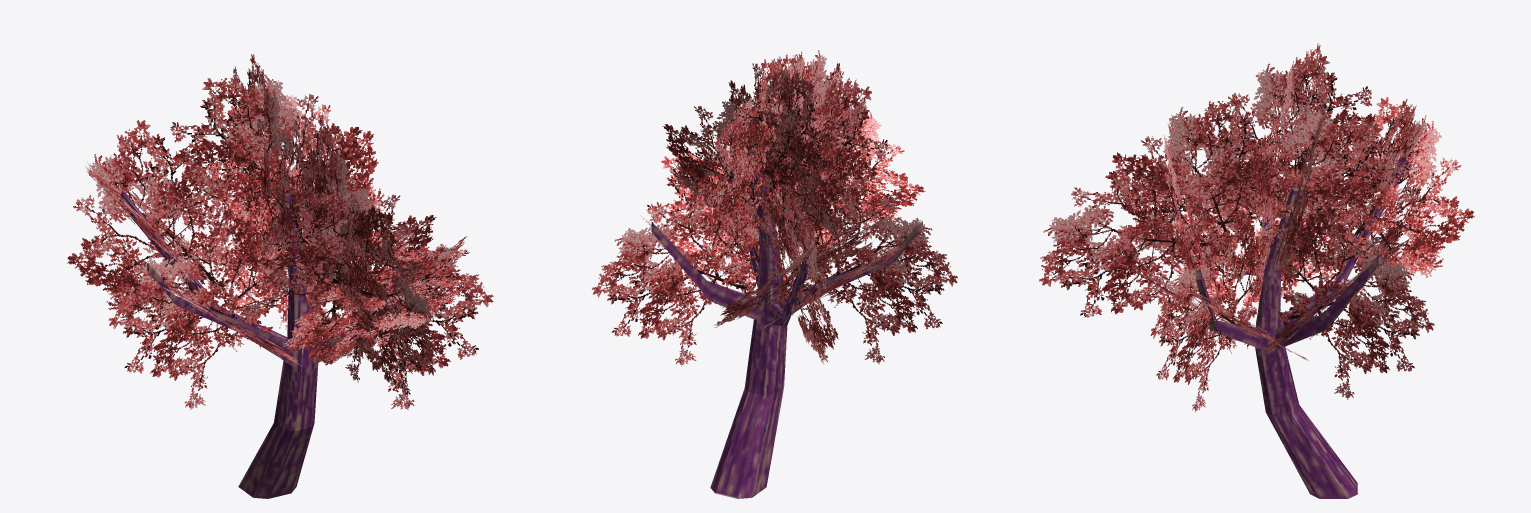
Rendered from pixel_tree2_pink_lowpoly.fbx.
The picture shows the model from 3 angles, left to right: view 1: azimuth 30°, elevation 25°; view 2: azimuth 150°, elevation 25°; view 3: azimuth 270°, elevation 25°; orthographic projection. The views are drawn at different scales.
Visible parts, largest first — view 1: pixel_tree2_pink_foliage, pixel_tree2_pink_foliage2, pixel_tree2_pink_oak; view 2: pixel_tree2_pink_foliage, pixel_tree2_pink_foliage2, pixel_tree2_pink_oak; view 3: pixel_tree2_pink_foliage, pixel_tree2_pink_foliage2, pixel_tree2_pink_oak.
Boxes of the visible parts, x1,y1,x2,y2 form: pixel_tree2_pink_foliage: [67, 54, 493, 409]; pixel_tree2_pink_foliage2: [68, 67, 484, 408]; pixel_tree2_pink_oak: [119, 181, 422, 498]; pixel_tree2_pink_foliage: [592, 50, 957, 366]; pixel_tree2_pink_foliage2: [592, 52, 955, 365]; pixel_tree2_pink_oak: [651, 159, 922, 498]; pixel_tree2_pink_foliage: [1039, 43, 1474, 412]; pixel_tree2_pink_foliage2: [1040, 43, 1473, 410]; pixel_tree2_pink_oak: [1195, 140, 1407, 498].
Bounding box in the file's own units: 230 × 259 × 260.
